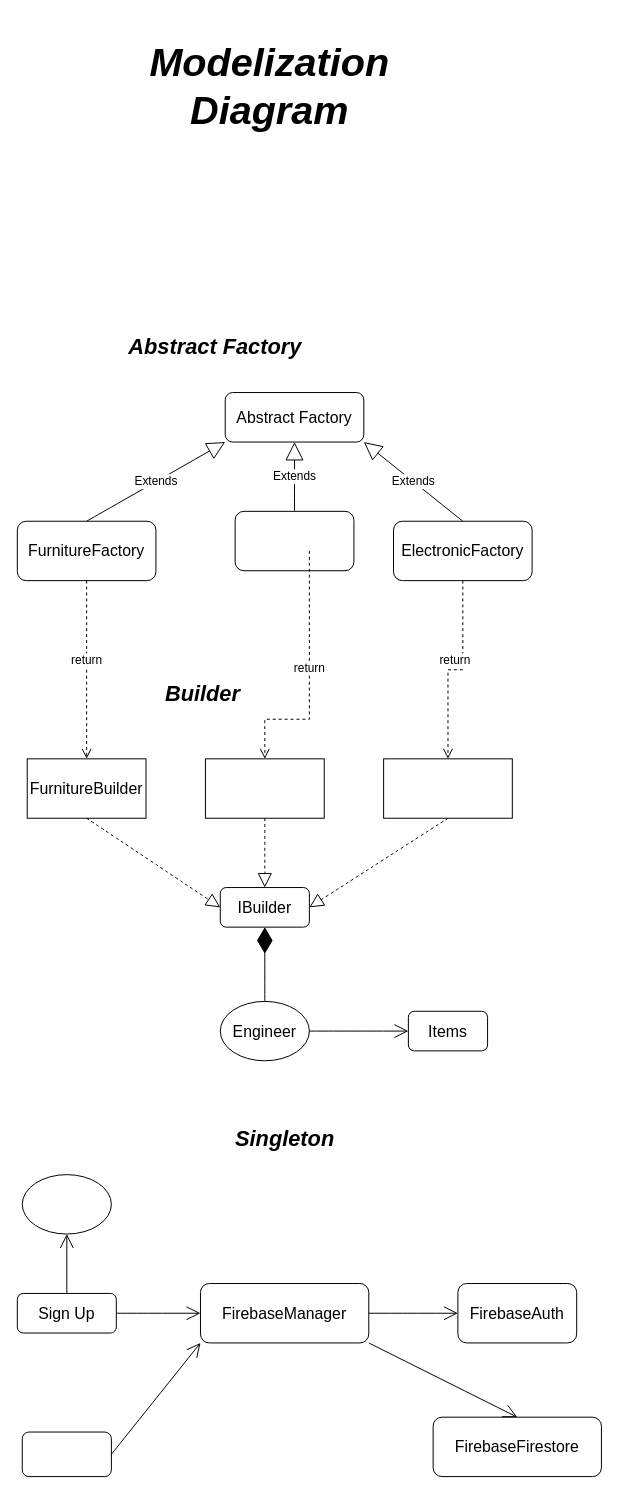
Some shapes in this 619 by 1494 pixel diagram are drawn without their labels. Here are the shapes that lost their labels. From the top down, the box of each, then its label:
(234, 510, 354, 571): ClothingFactory
(204, 758, 324, 818): ClothingBuilder
(383, 758, 512, 818): ElectronicBuilder
(21, 1174, 111, 1234): User
(21, 1431, 111, 1477): Log In
